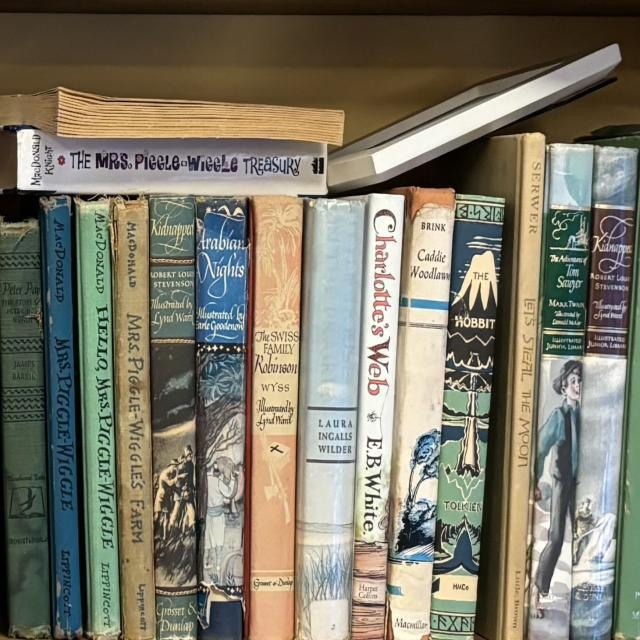book: (429, 193, 506, 640), (529, 143, 595, 638), (574, 149, 639, 640), (387, 190, 456, 640), (301, 202, 364, 639), (351, 194, 405, 637), (248, 199, 302, 639), (149, 197, 201, 638), (195, 198, 247, 638), (0, 222, 53, 638), (503, 135, 545, 640), (113, 200, 156, 640), (18, 131, 326, 191), (80, 203, 121, 640), (42, 201, 83, 635)
